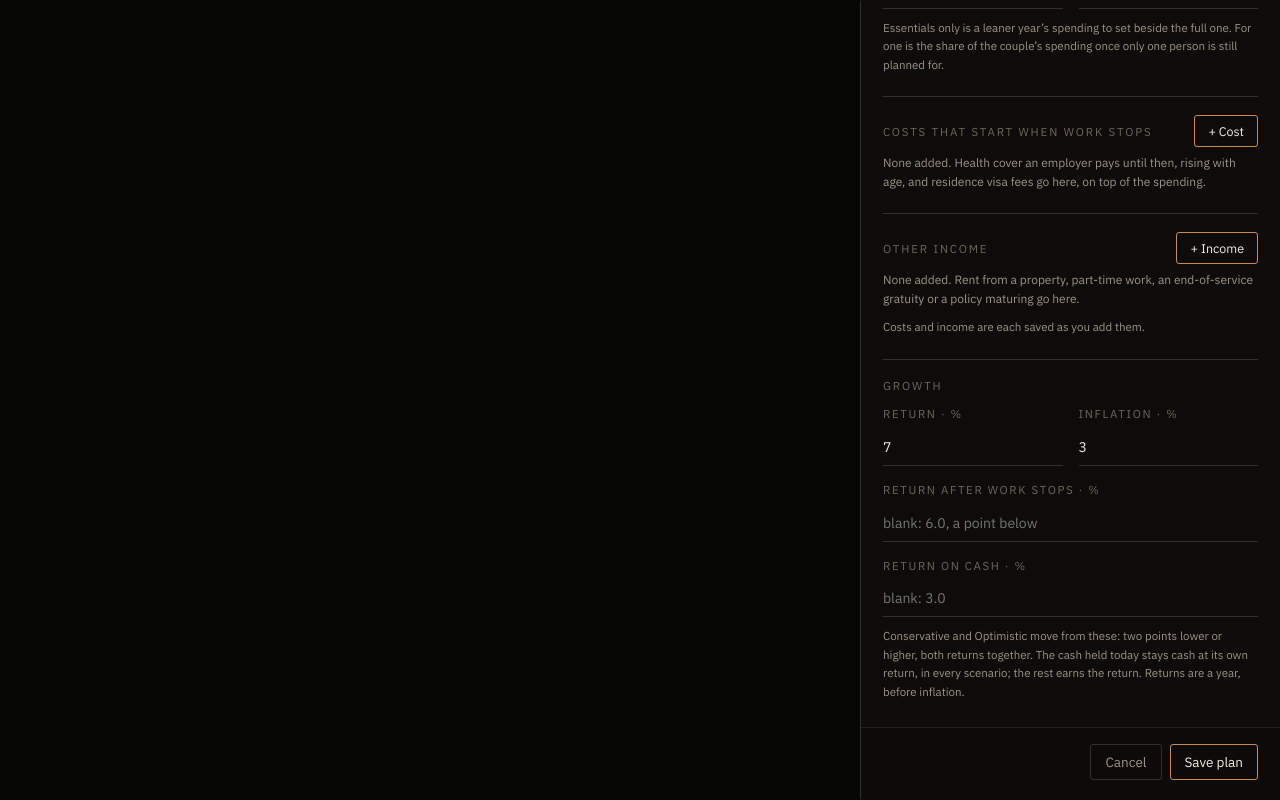
Test: LifePlanEditor: growth, on Baseline › refuses figures out of range, marks each, and saves nothing
(page scrolled)
Replace the text in the number field named "Investment return, nominal percent a year" with "-40" at point(973, 448), box top-left (883, 429), bottom-right (1062, 466)
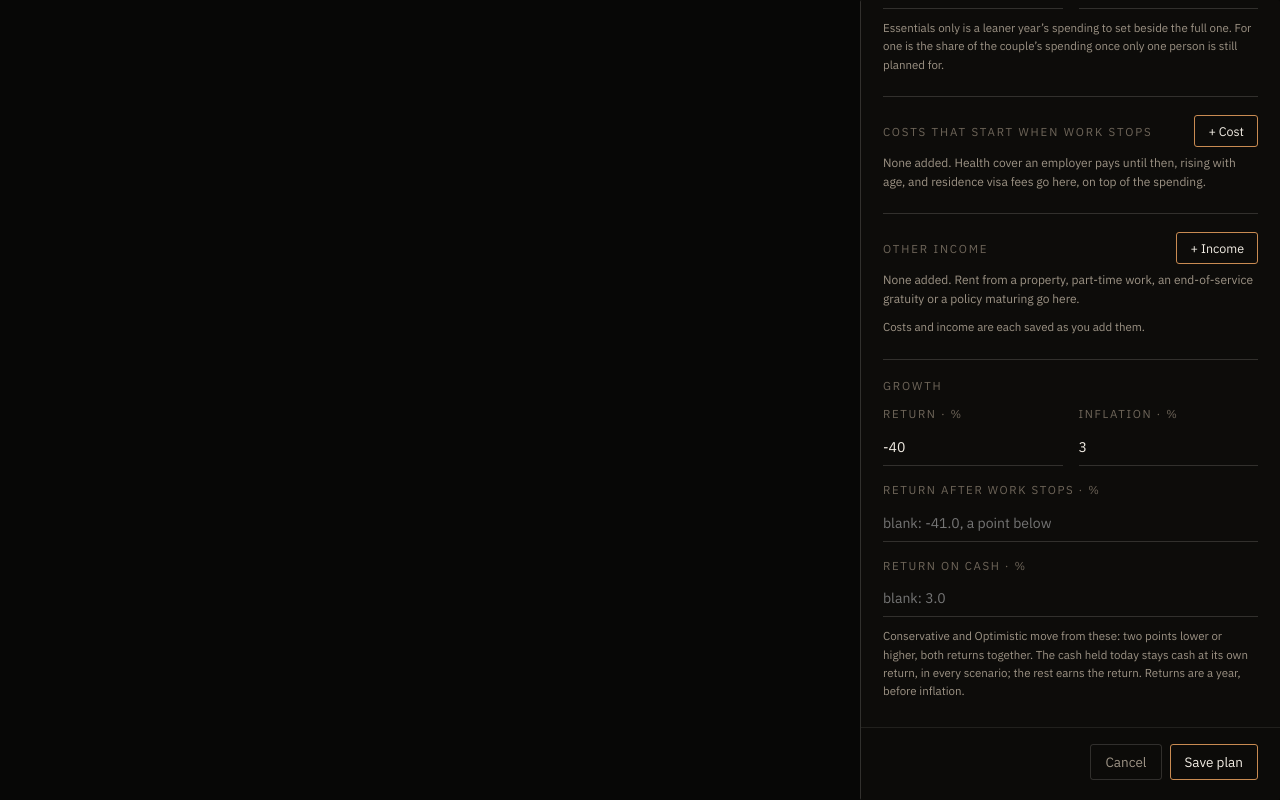
Replace the text in the number field named "Inflation, percent a year" with "-100" at point(1168, 447), box top-left (1078, 429), bottom-right (1258, 466)
(page scrolled)
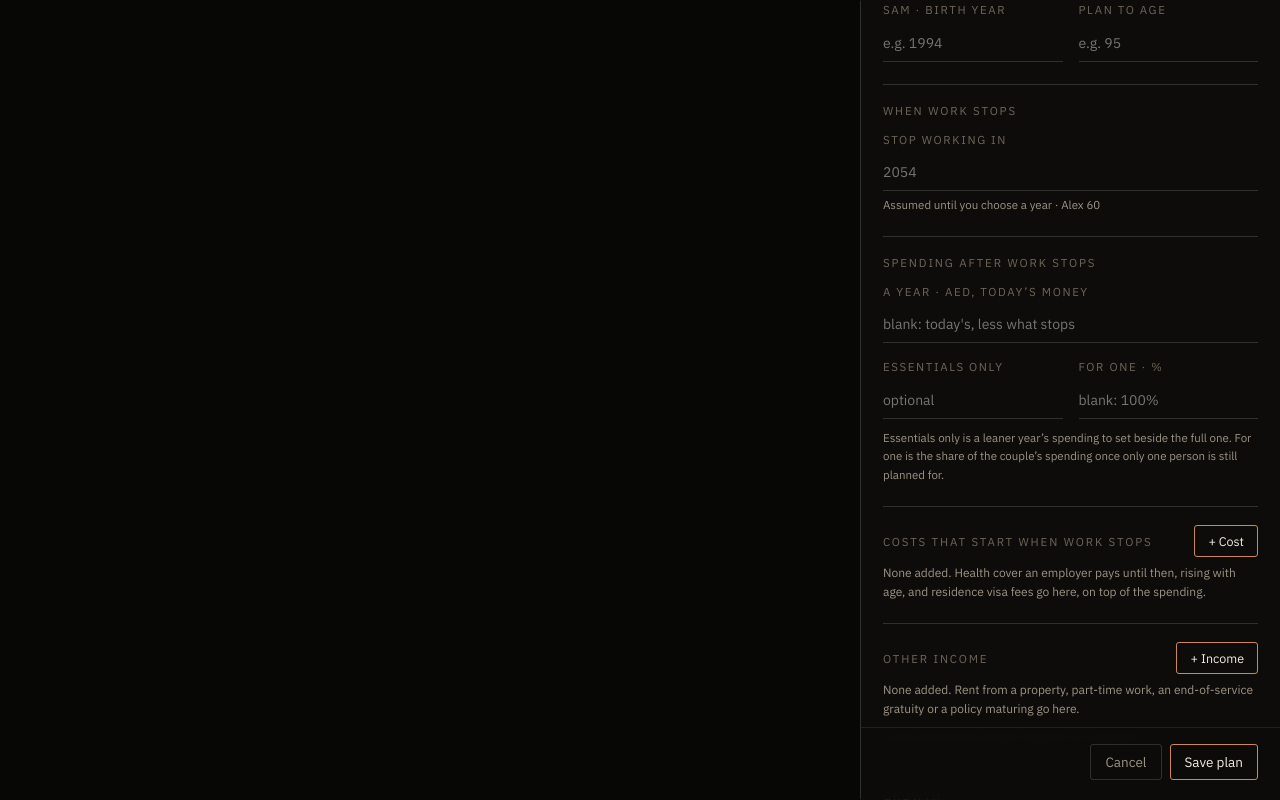
Type "-1" into the number field named "Essentials-only annual spend" at point(973, 400), box top-left (883, 382), bottom-right (1062, 419)
(page scrolled)
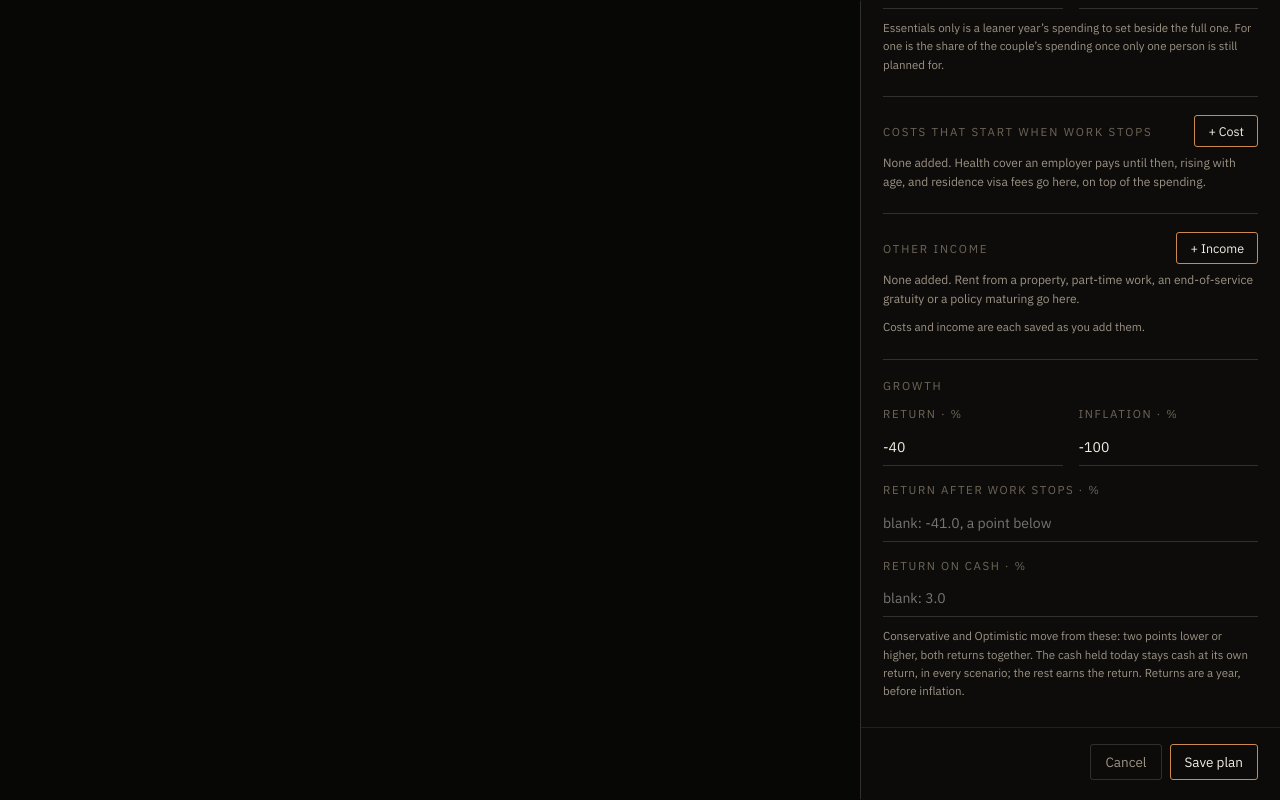
Type "60" into the number field labelled "Return after work stops" at point(1070, 523), box top-left (883, 505), bottom-right (1258, 542)
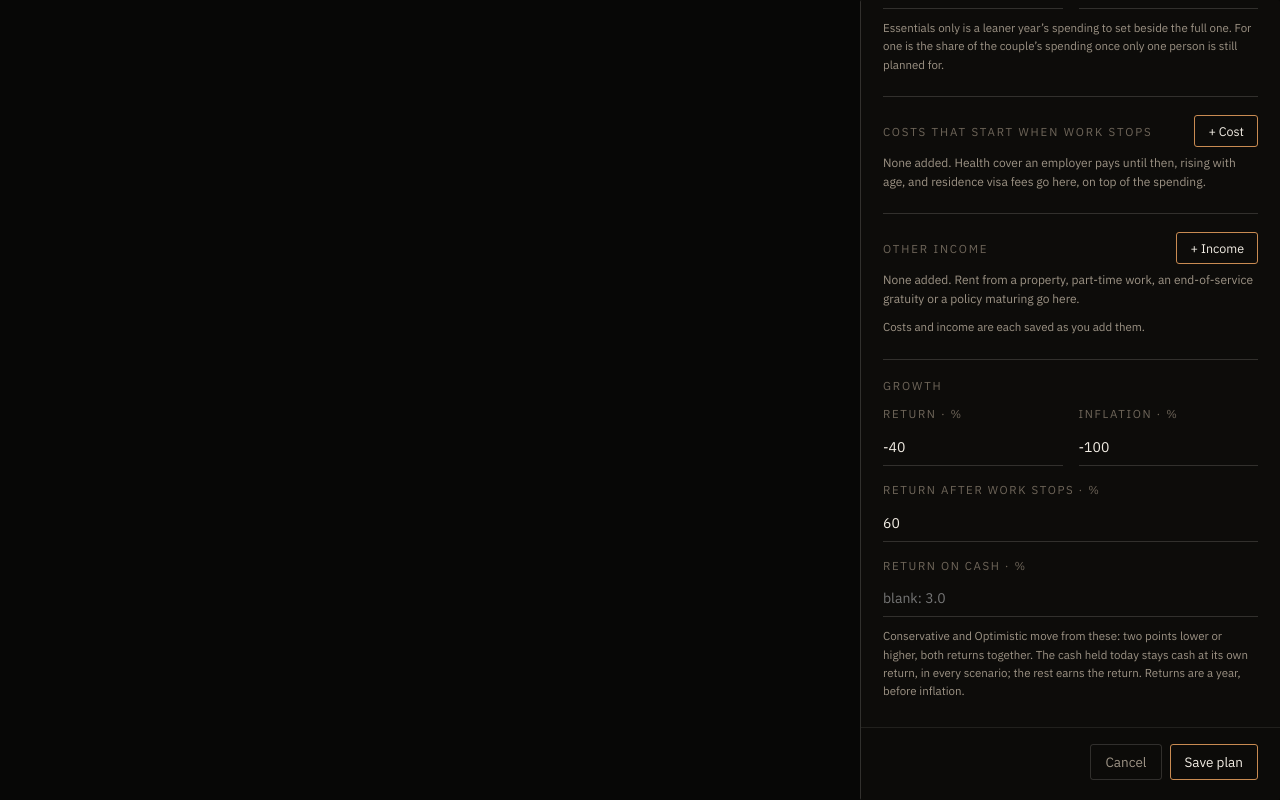
Click the button "Save plan" at point(1214, 762), box top-left (1170, 744), bottom-right (1258, 780)
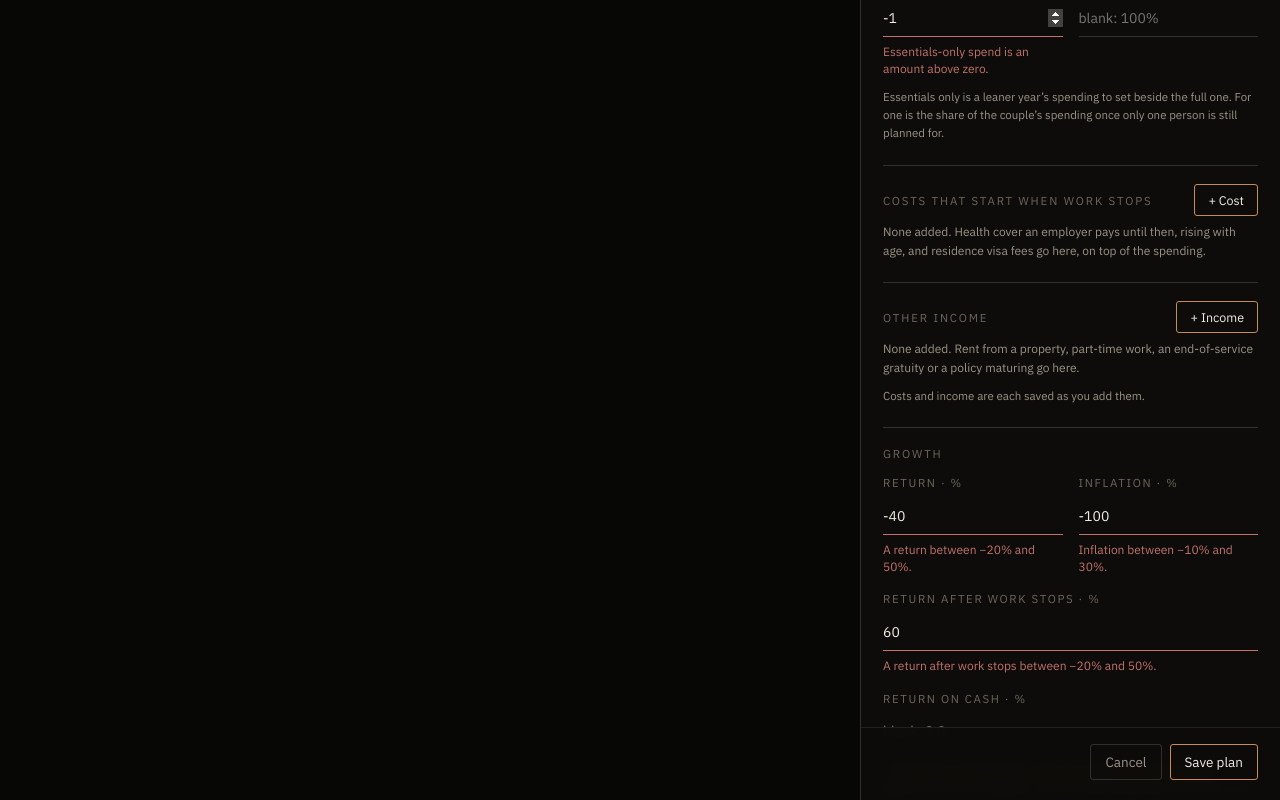
Now the text "Essentials-only spend is an amount above zero." is shown 2 times
Now the text "A return between −20% and 50%." is shown, box top-left (883, 542), bottom-right (1035, 574)
Now the text "Inflation between −10% and 30%." is shown, box top-left (1078, 541), bottom-right (1258, 576)
